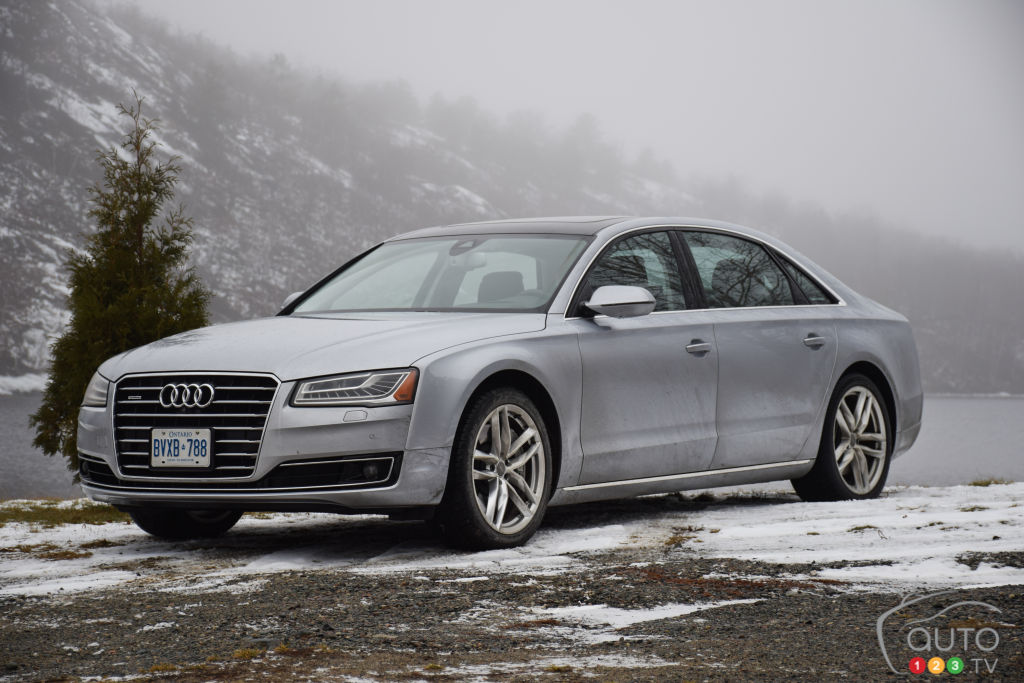plate: (150, 427, 213, 471)
